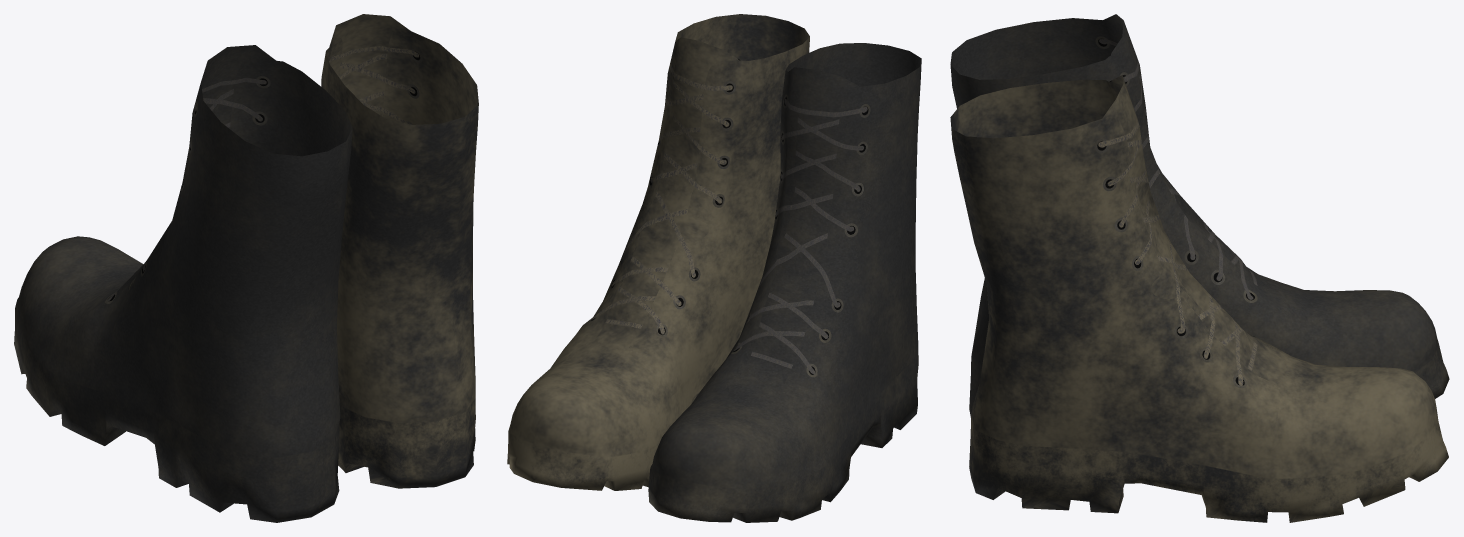
The model's file is bota marrom com barro.glb.
The picture shows the model from 3 angles, left to right: view 1: azimuth 30°, elevation 25°; view 2: azimuth 150°, elevation 25°; view 3: azimuth 270°, elevation 25°; orthographic projection. The views are drawn at different scales.
Visible parts, largest first — view 1: Boots2, boots; view 2: Boots2, boots; view 3: boots, Boots2.
Part boxes in pixels (x1,y1,x2,y2): Boots2: (14, 45, 352, 522); boots: (321, 14, 478, 488); Boots2: (648, 43, 921, 522); boots: (507, 14, 809, 490); boots: (950, 75, 1448, 522); Boots2: (950, 14, 1449, 417).
Size of the model in its own units: 3.36 by 4.15 by 4.72.
2 materials, 2 textured.
